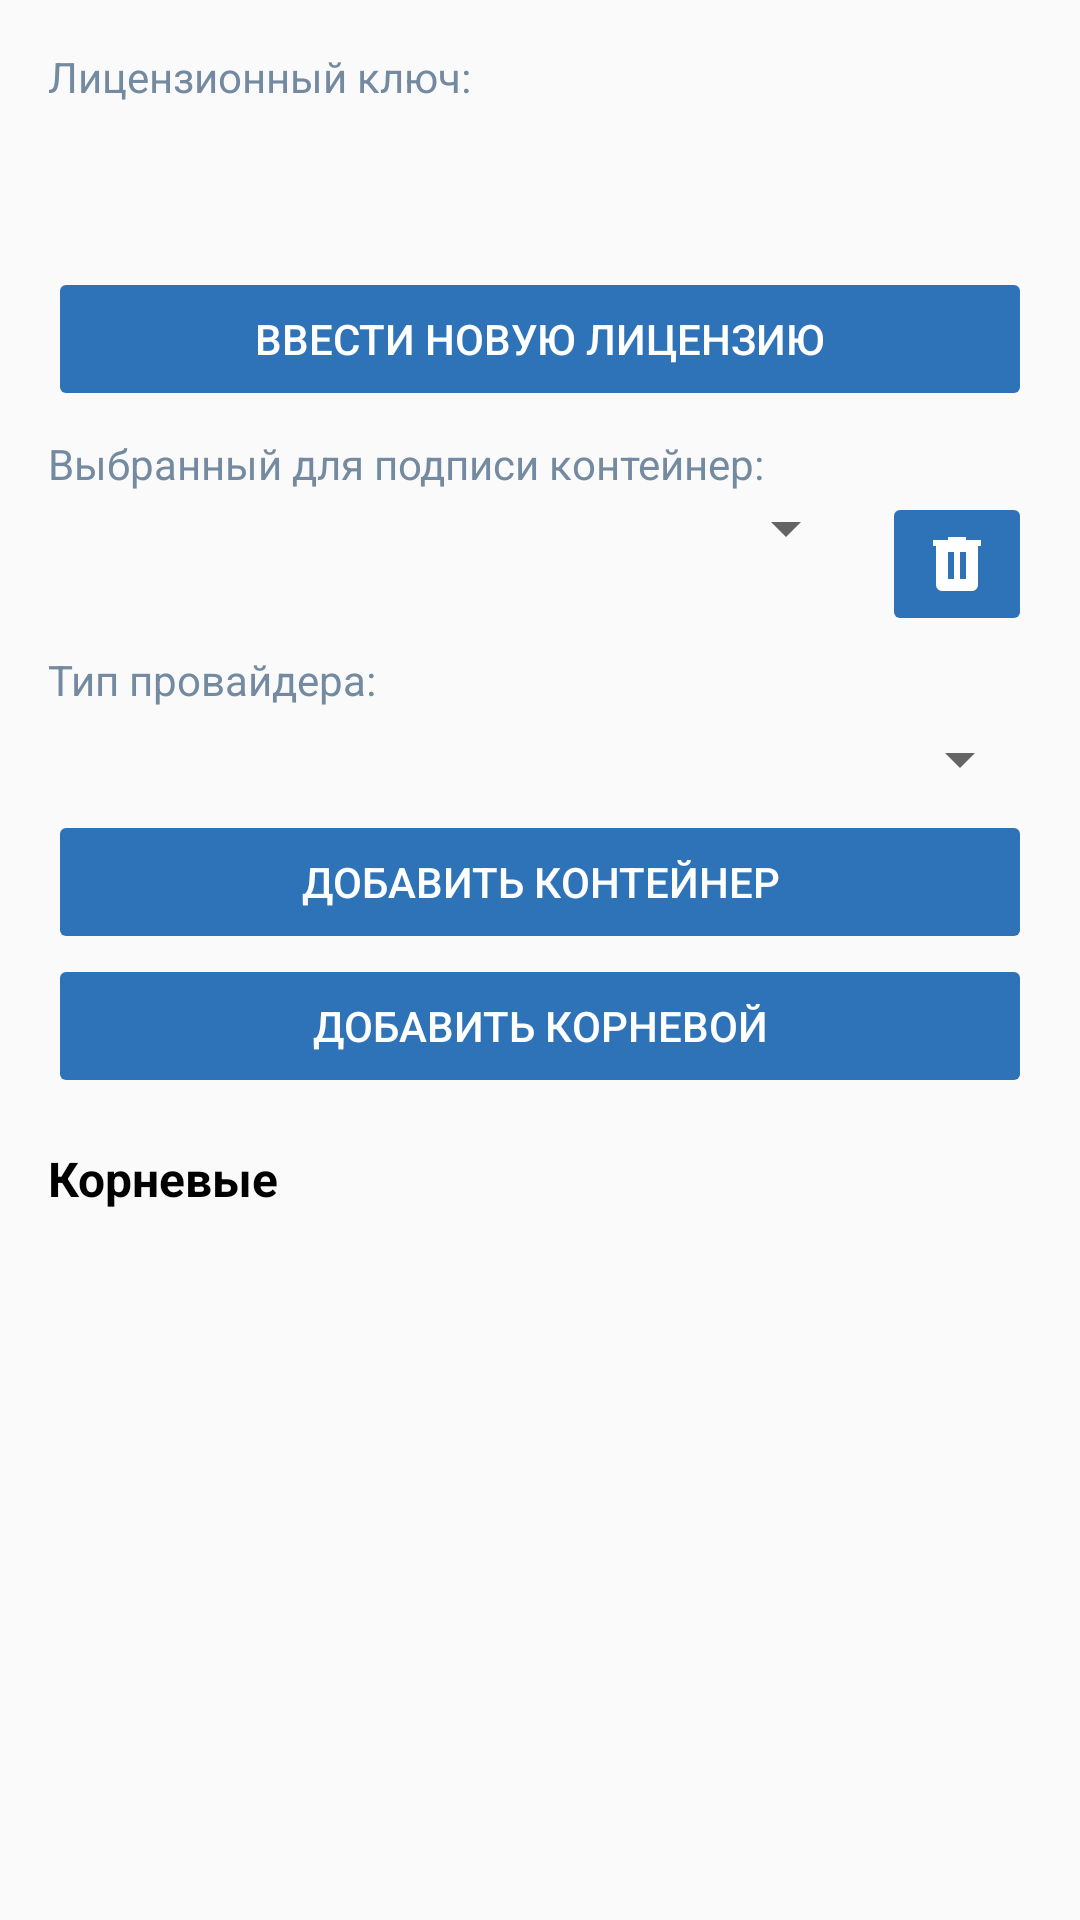

Where to tap for icons on this 1080*1920 app screen, as [x,y]:
trash can: [957,564]
